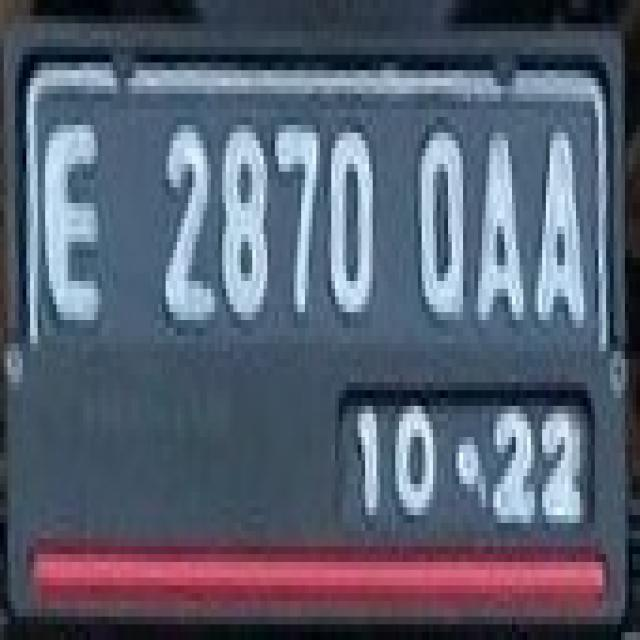plate: (19, 39, 610, 546)
